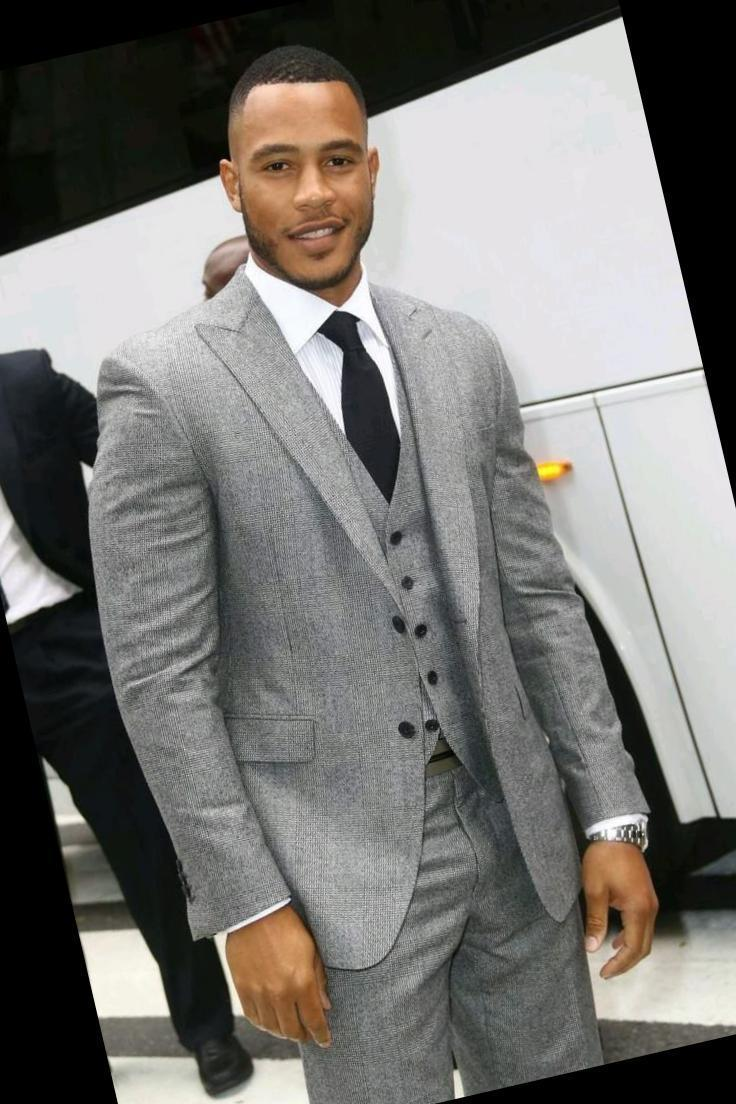Sober: (253, 91, 370, 273)
